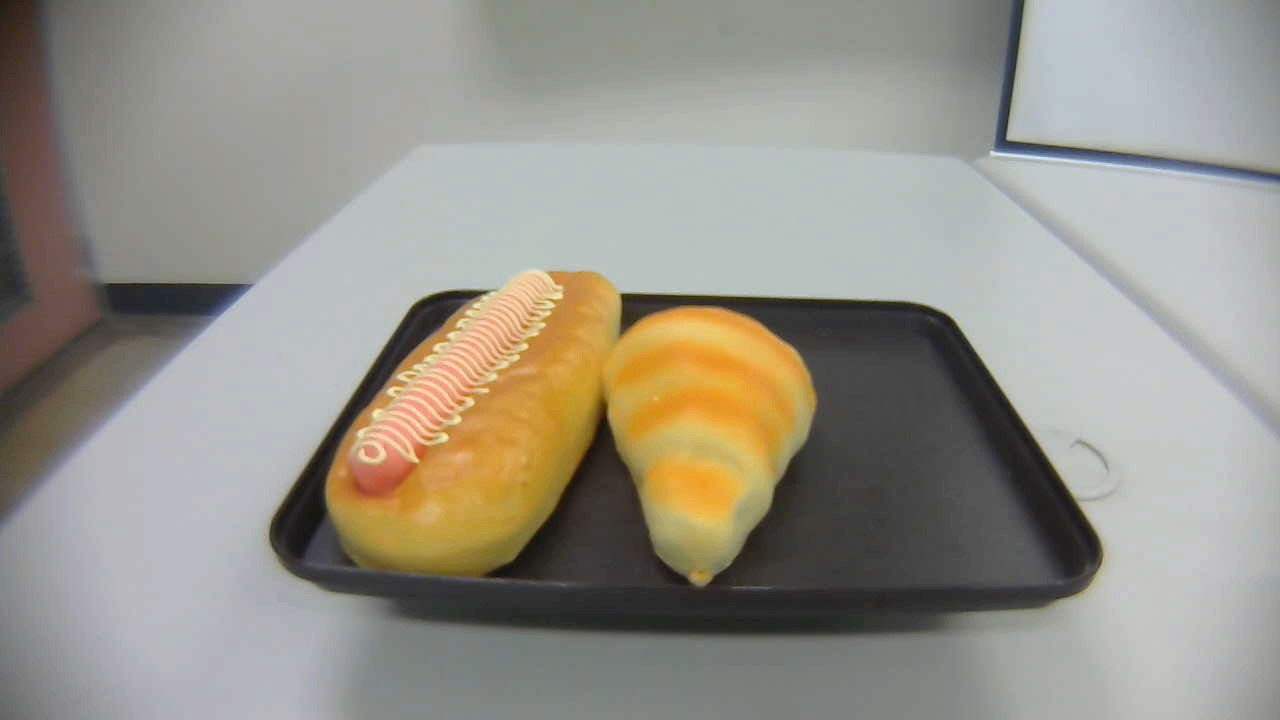croissant: (604, 305, 817, 587)
hot dog: (324, 269, 621, 577)
